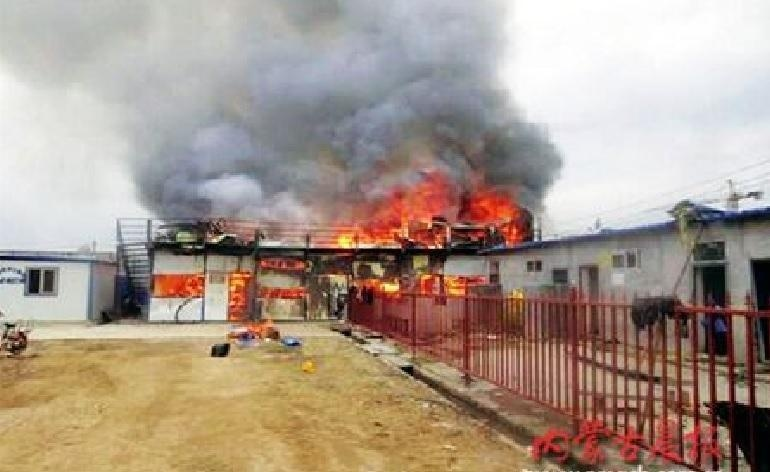fire: (330, 184, 530, 253), (226, 267, 263, 334), (154, 272, 204, 296)
